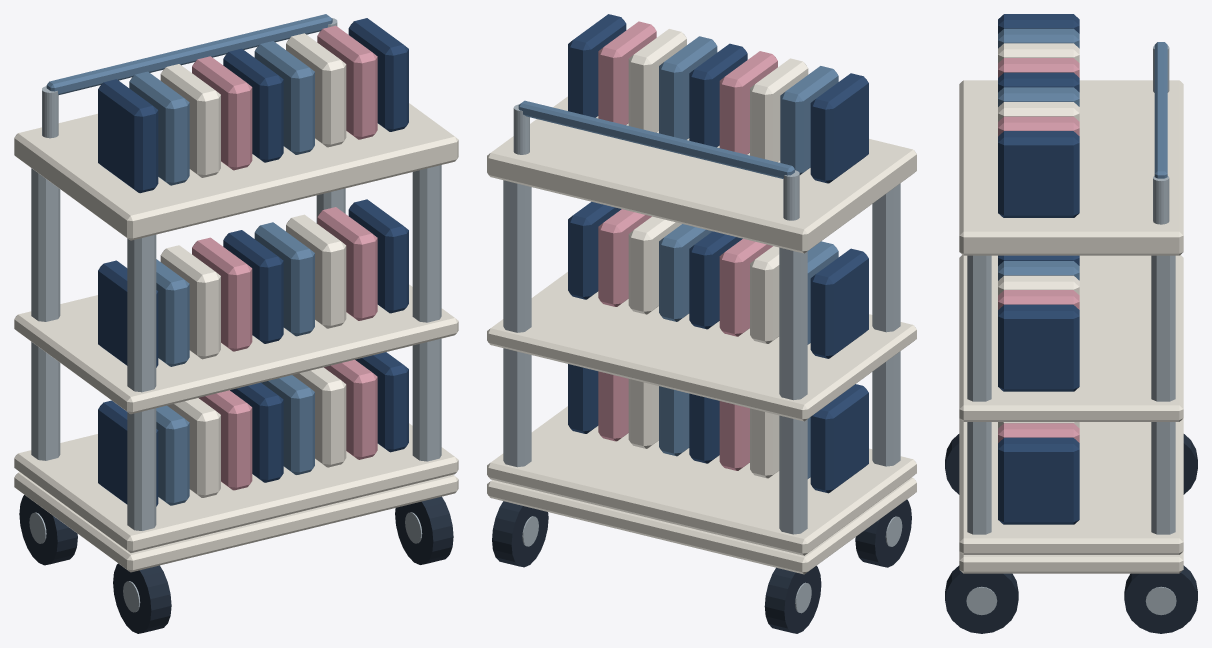
Rendered from lounge_11.glb.
The picture shows the model from 3 angles, left to right: view 1: azimuth 30°, elevation 25°; view 2: azimuth 150°, elevation 25°; view 3: azimuth 270°, elevation 25°; orthographic projection. The views are drawn at different scales.
Visible parts, largest first — view 1: Book (×27), Shelf (×5), Leg (×3), Wheel (×3), PushHandle, HandlePost; view 2: Shelf (×5), Book (×26), Leg (×3), Wheel (×3), PushHandle, HandlePost (×2); view 3: Shelf (×5), Book (×16), Leg (×2), Wheel (×4), PushHandle, WheelHub (×2), HandlePost.
Part boxes in pixels (x1,y1,x2,y2): Book (×27): (98,18,408,506); Shelf (×5): (14,103,458,572); Leg (×3): (31,165,441,530); Wheel (×3): (19,495,453,633); PushHandle: (46,14,332,94); HandlePost: (42,86,58,138); Shelf (×5): (487,96,916,574); Book (×26): (568,14,868,493); Leg (×3): (503,180,900,534); Wheel (×3): (492,499,911,633); PushHandle: (518,100,794,178); HandlePost (×2): (513,104,799,220); Shelf (×5): (959,80,1183,573); Book (×16): (998,14,1079,524); Leg (×2): (967,255,1175,534); Wheel (×4): (945,434,1197,633); PushHandle: (1154,42,1167,178); WheelHub (×2): (966,586,1176,615); HandlePost: (1153,176,1169,224).
Size of the model in its own units: 0.9 by 1.32 by 0.62.
